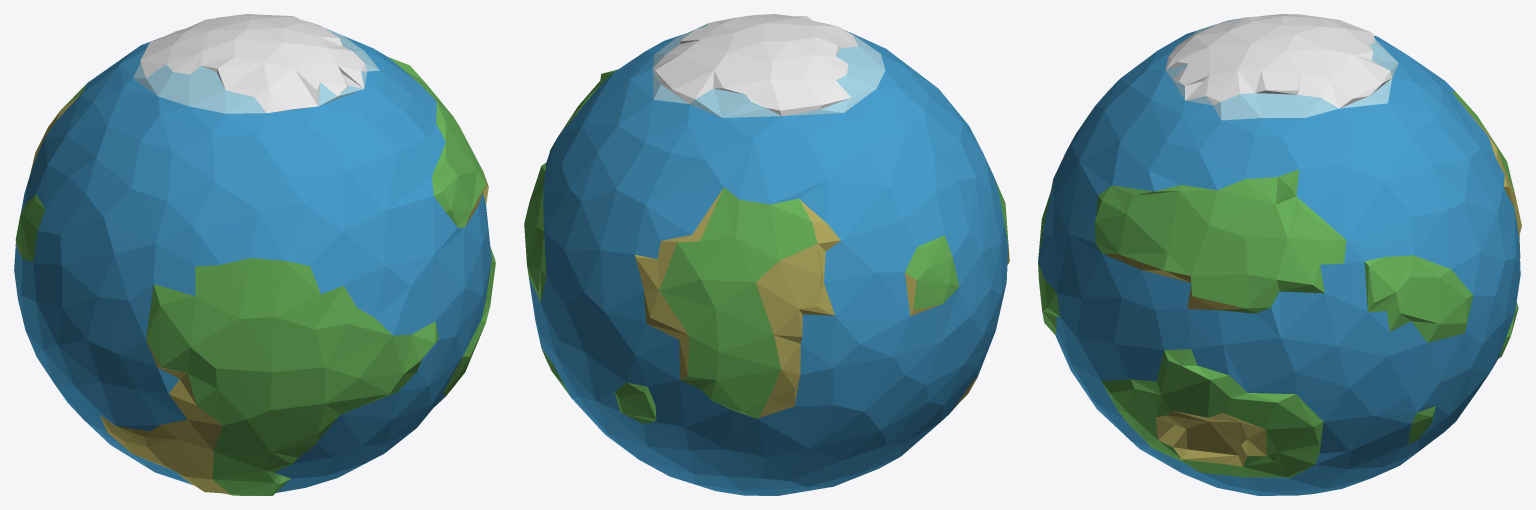
The model's file is Erath Like Planet_01.fbx.
3 views of the same model, side by side, from view 1: azimuth 30°, elevation 25°; view 2: azimuth 150°, elevation 25°; view 3: azimuth 270°, elevation 25° (orthographic).
Visible parts, largest first — view 1: Erath_Like_Planet_01; view 2: Erath_Like_Planet_01; view 3: Erath_Like_Planet_01.
Boxes of the visible parts, bbox=[...] form: Erath_Like_Planet_01: bbox=[14, 14, 495, 495]; Erath_Like_Planet_01: bbox=[524, 14, 1009, 495]; Erath_Like_Planet_01: bbox=[1038, 14, 1521, 495].
Size of the model in its own units: 19919 by 19925 by 19920.
Materials: 1 (1 with a texture image).
